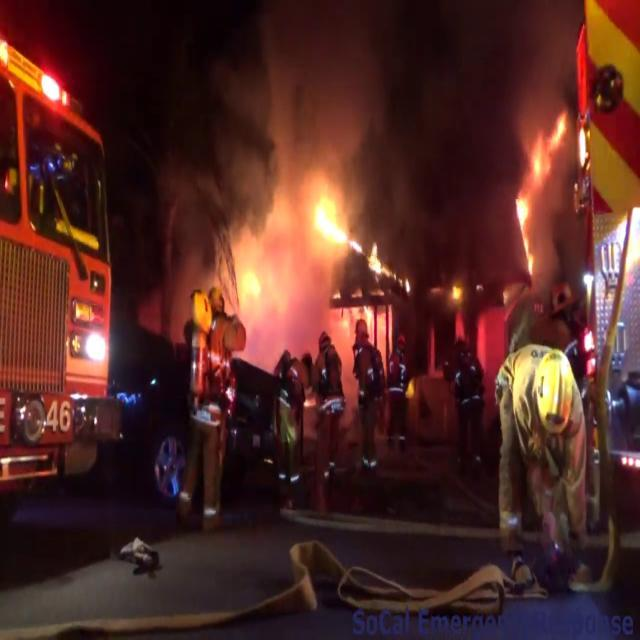Fire: (244, 180, 352, 324), (512, 99, 566, 273)
Smoke: (140, 3, 434, 255)
